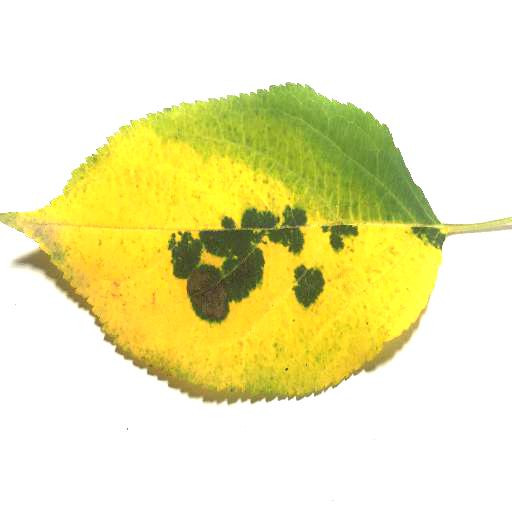Brown_Spot: (188, 267, 232, 324)
